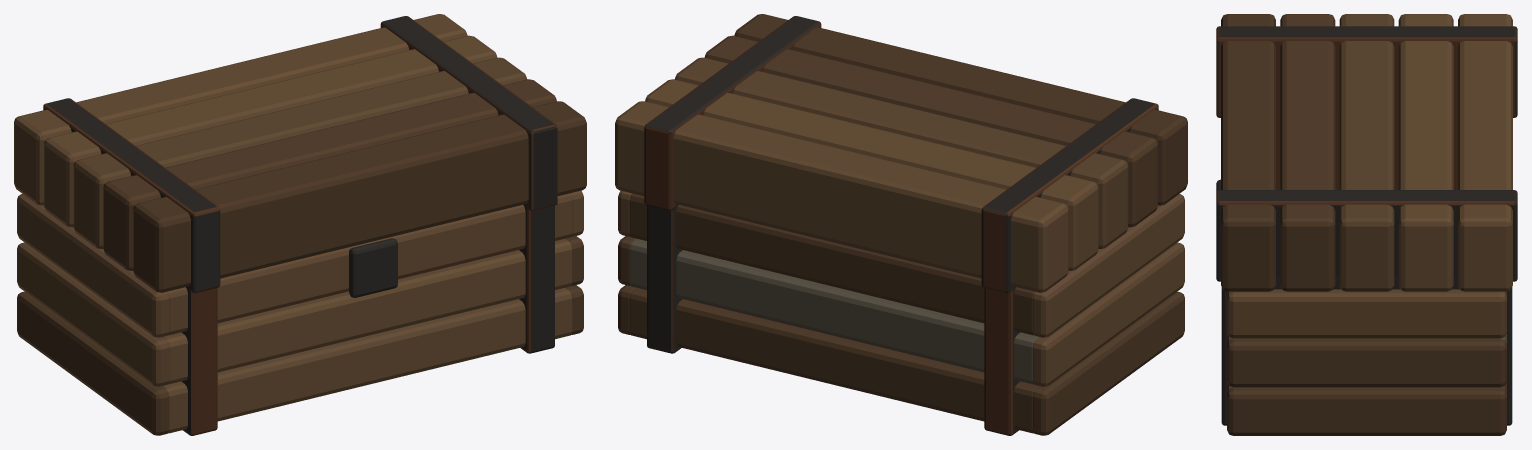
Rendered from chest.glb.
3 renders of one model, left to right at view 1: azimuth 30°, elevation 25°; view 2: azimuth 150°, elevation 25°; view 3: azimuth 270°, elevation 25°, orthographic.
Parts seen in each view (by area): view 1: chest-lid, chest; view 2: chest-lid, chest; view 3: chest-lid, chest.
Boxes of the visible parts, x1=… form: chest-lid: x1=14, y1=14, x2=586, y2=293; chest: x1=17, y1=190, x2=583, y2=435; chest-lid: x1=615, y1=14, x2=1187, y2=293; chest: x1=618, y1=190, x2=1184, y2=435; chest-lid: x1=1216, y1=14, x2=1517, y2=291; chest: x1=1216, y1=112, x2=1512, y2=435.
Bounding box in the file's own units: 0.92 × 0.46 × 0.56.
